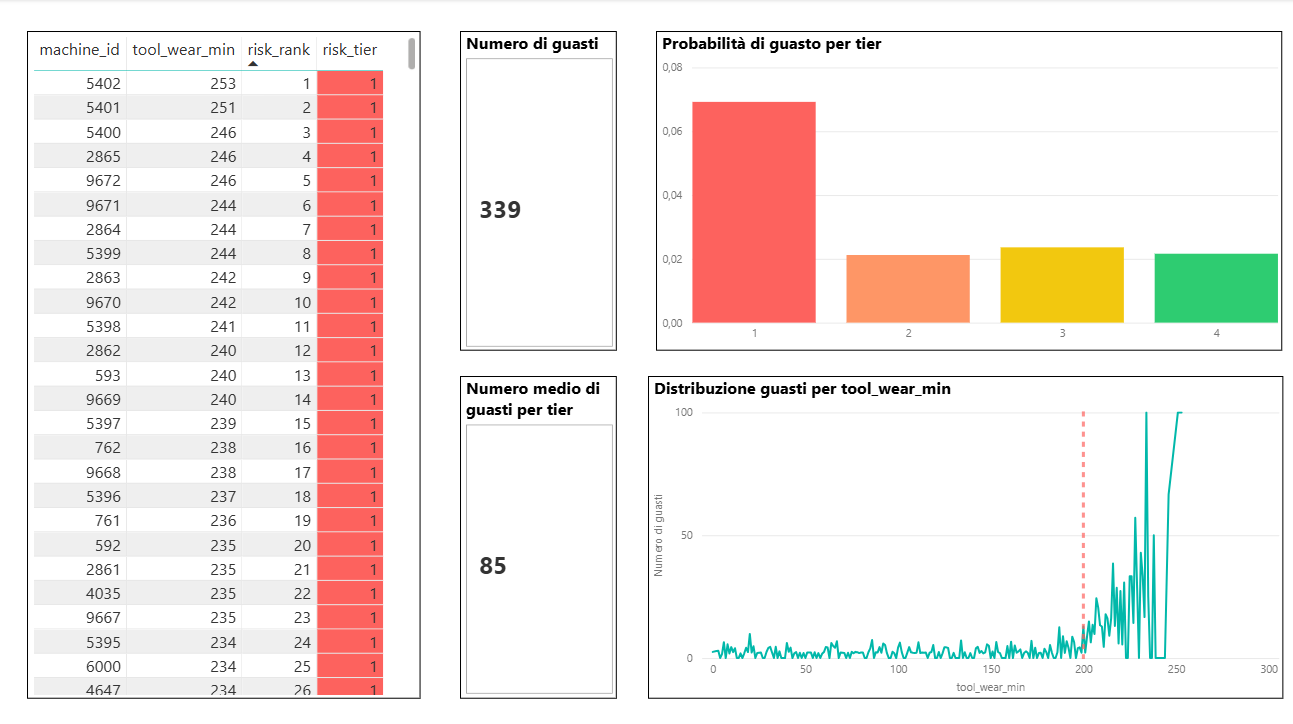

Layout of this report page (visuals, bound fields, positions):
{"tool":"powerbi","page":{"name":"Machine Risk","canvas":[1280,720],"ordinal":2},"visuals":[{"type":"tableEx","fields":{"Values":["gold vw_machine_risk_ranking.machine_id","gold vw_machine_risk_ranking.tool_wear_min","gold vw_machine_risk_ranking.risk_rank","gold vw_machine_risk_ranking.risk_tier"]},"box":[26.2,31.2,388.8,660],"z":0},{"type":"lineStackedColumnComboChart","title":"Probabilità di guasto per tier","fields":{"Y":["gold vw_machine_risk_ranking.Failure Rate per Tool Wear1"],"Category":["gold vw_machine_risk_ranking.risk_tier"]},"box":[648.8,31.2,618.8,316.2],"z":1000},{"type":"lineChart","title":"Distribuzione guasti per tool_wear_min","fields":{"Y":["gold vw_operating_conditions_by_failure.Failure Rate Tool Wear1"],"Category":["gold vw_machine_risk_ranking.tool_wear_min"]},"box":[640,372.5,627.5,318.8],"z":2000},{"type":"cardVisual","title":"Numero di guasti","fields":{"Data":["Sum(gold vw_machine_risk_ranking.machine_failure)"]},"box":[455,31.2,155,316.2],"z":3000},{"type":"cardVisual","title":"Numero medio di guasti per tier","fields":{"Data":["gold vw_machine_risk_ranking.Conteggio guasti tier1"]},"box":[455,372.5,155,318.8],"z":4000}]}

Visuals, with their boxes in screenshot pixels (x1, y1, x2, y2), scaled from the page's 1280x720 canvas onto the 1293x724 screenshot:
tableEx - gold vw_machine_risk_ranking.machine_id x gold vw_machine_risk_ranking.tool_wear_min: detection(26, 31, 419, 695)
"Probabilità di guasto per tier" lineStackedColumnComboChart: detection(655, 31, 1280, 349)
"Distribuzione guasti per tool_wear_min" lineChart: detection(646, 375, 1280, 695)
"Numero di guasti" cardVisual: detection(460, 31, 616, 349)
"Numero medio di guasti per tier" cardVisual: detection(460, 375, 616, 695)
